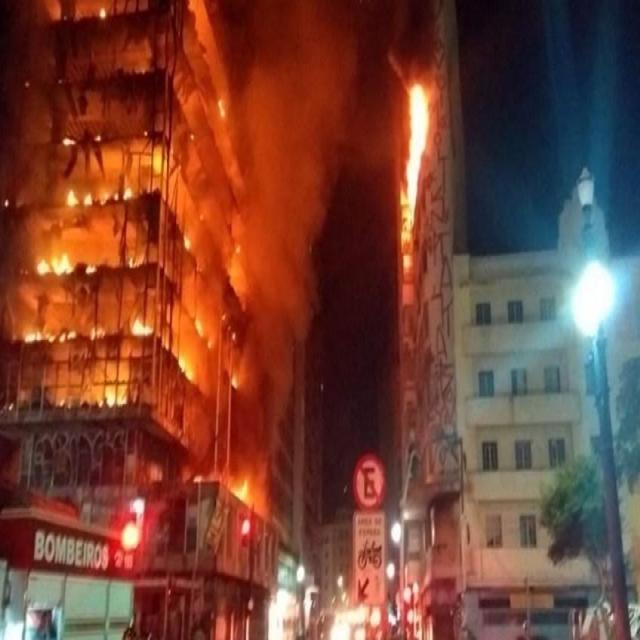Fire: (5, 1, 260, 448), (371, 67, 449, 256)
